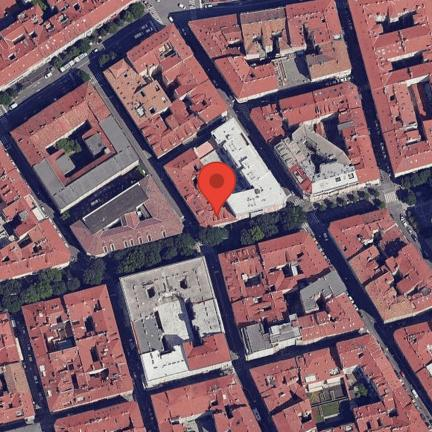area_open: (402, 174, 432, 251), (274, 51, 310, 89)
built: (219, 230, 364, 363), (249, 335, 430, 432), (10, 80, 139, 215), (102, 22, 228, 159), (188, 0, 353, 102), (250, 80, 381, 204), (120, 256, 233, 388), (348, 0, 432, 177), (22, 284, 134, 413), (0, 0, 139, 92), (326, 208, 432, 323), (0, 140, 71, 284), (70, 174, 184, 258), (195, 117, 288, 219), (152, 373, 262, 432), (162, 148, 236, 227), (0, 312, 37, 425), (393, 321, 432, 408), (54, 401, 146, 432)
vegetation_high: (0, 206, 305, 312), (51, 3, 144, 70), (0, 88, 19, 102)
